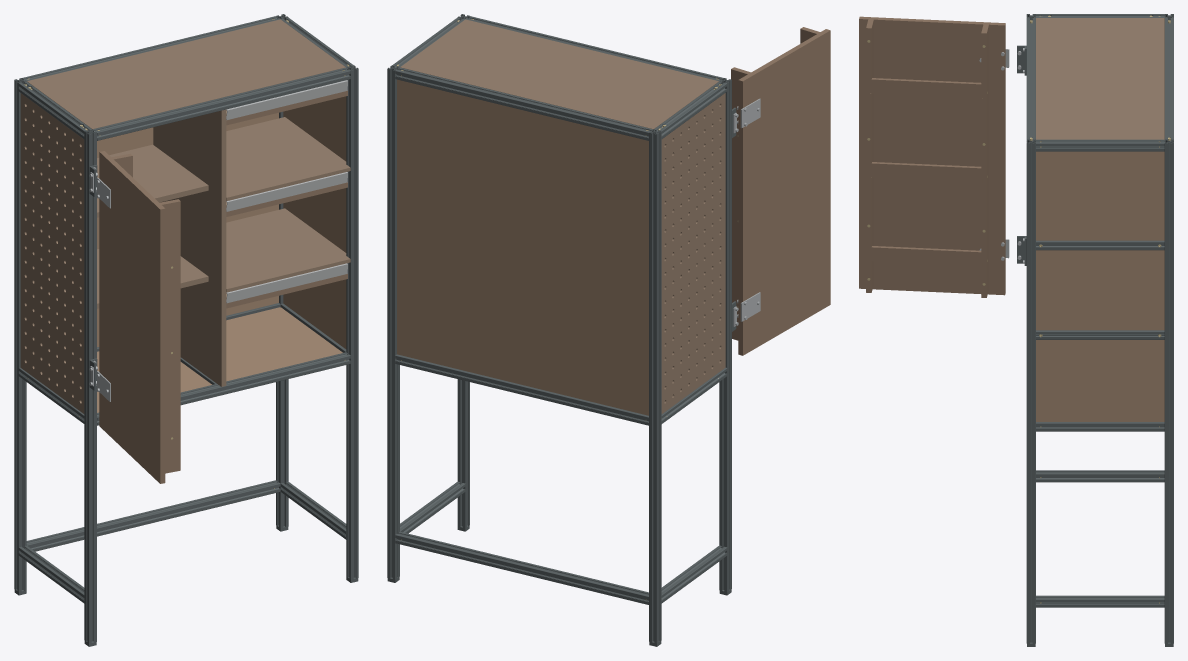
File: cabinet-open.glb
The picture shows the model from 3 angles, left to right: view 1: azimuth 30°, elevation 25°; view 2: azimuth 150°, elevation 25°; view 3: azimuth 270°, elevation 25°; orthographic projection.
Visible parts, largest first — view 1: Door-face-18, Left-pegboard-18, Top-18, Center-18, Shelf-Right-1, Shelf-Right-2, Post-966-23, Post-4-23, Floor-Right-8, Post-4-470, Door-inner-meeting-18, Beam-top-front (+22 smaller); view 2: Back-infill-8, Door-face-18, Left-pegboard-18, Top-18, Post-4-470, Post-966-470, Post-4-23, Beam-top-rear, Beam-lower-rear, Beam-body-rear, Post-966-23, Door-inner-hinge-18 (+5 smaller); view 3: Door-face-18, Top-18, Right-infill-8-3, Right-infill-8-1, Right-infill-8-2, Post-966-23, Post-966-470, Door-inner-hinge-18, Door-inner-meeting-18, Beam-lower-side-4, Beam-lower-side-966, Beam-top-side-966 (+12 smaller).
Part boxes in pixels (box(x1,y1,x2,y2)): Door-face-18: box(99, 151, 165, 483); Left-pegboard-18: box(20, 93, 84, 413); Top-18: box(27, 19, 345, 129); Center-18: box(153, 109, 226, 386); Shelf-Right-1: box(226, 208, 350, 292); Shelf-Right-2: box(226, 117, 350, 200); Post-966-23: box(346, 65, 358, 579); Post-4-23: box(84, 129, 96, 643); Floor-Right-8: box(226, 307, 342, 381); Post-4-470: box(14, 78, 26, 592); Door-inner-meeting-18: box(159, 199, 180, 473); Beam-top-front: box(93, 67, 350, 140); Back-infill-8: box(397, 79, 648, 415); Door-face-18: box(738, 29, 830, 355); Left-pegboard-18: box(661, 93, 725, 413); Top-18: box(400, 19, 718, 129); Post-4-470: box(649, 129, 661, 643); Post-966-470: box(387, 65, 399, 579); Post-4-23: box(719, 78, 731, 592); Beam-top-rear: box(395, 67, 652, 140); Beam-lower-rear: box(395, 531, 648, 604); Beam-body-rear: box(395, 354, 648, 425); Post-966-23: box(457, 14, 469, 528); Door-inner-hinge-18: box(731, 67, 750, 340); Door-face-18: box(859, 16, 1005, 295); Top-18: box(1036, 18, 1164, 139); Right-infill-8-3: box(1036, 151, 1164, 240); Right-infill-8-1: box(1036, 340, 1164, 421); Right-infill-8-2: box(1036, 250, 1164, 330); Post-966-23: box(1026, 139, 1035, 643); Post-966-470: box(1164, 139, 1173, 643); Door-inner-hinge-18: box(981, 24, 988, 297); Door-inner-meeting-18: box(866, 19, 873, 292); Beam-lower-side-4: box(1036, 470, 1164, 482); Beam-lower-side-966: box(1036, 595, 1164, 607); Beam-top-side-966: box(1036, 139, 1164, 151).
Size of the model in its own units: 1.04 by 1.8 by 1.02.
